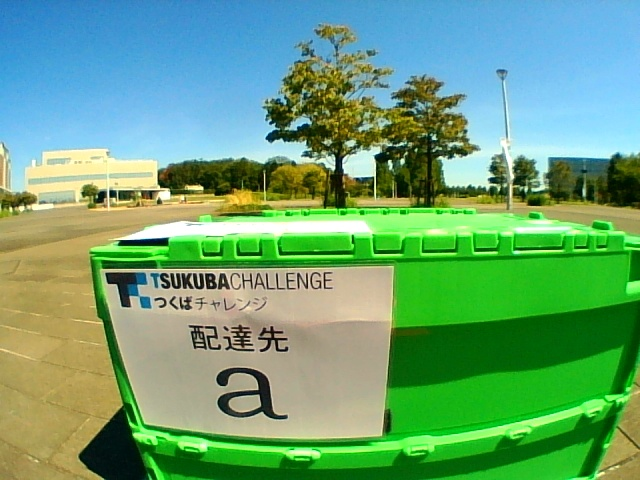green_box: (89, 209, 640, 480)
tag_a: (145, 277, 377, 425)
